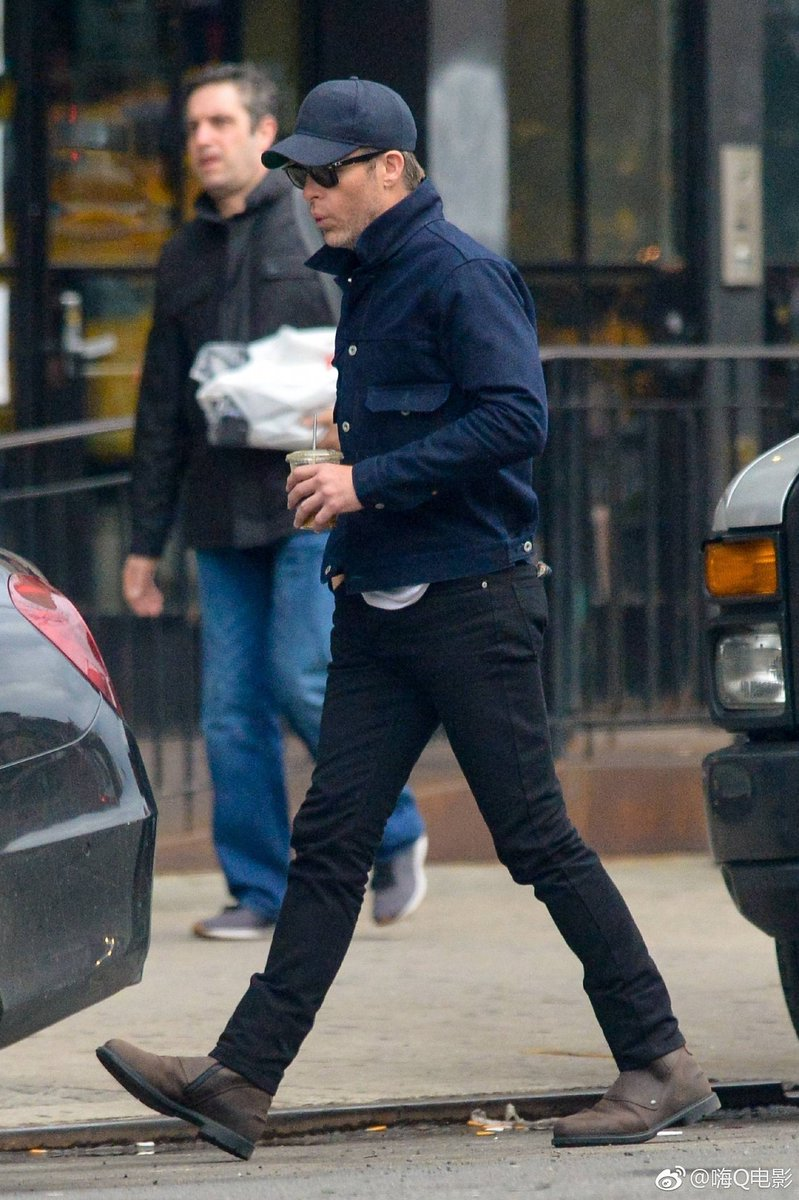Person: (94, 76, 721, 1161), (120, 59, 426, 942)
